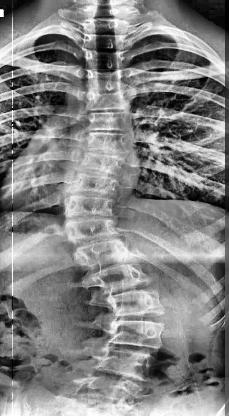Vertebrae: (92, 344, 158, 380), (76, 374, 142, 408), (107, 314, 168, 350), (78, 261, 148, 291), (99, 287, 163, 319), (72, 236, 132, 270), (64, 214, 128, 244), (64, 164, 120, 197), (65, 190, 121, 218), (79, 148, 129, 176), (83, 109, 131, 135), (82, 130, 130, 156), (80, 67, 126, 93), (82, 46, 126, 72), (83, 88, 129, 112)
